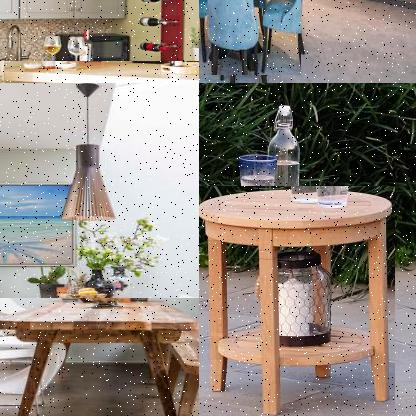table: (199, 186, 396, 415), (0, 298, 198, 415), (199, 0, 302, 77), (0, 61, 198, 82)
